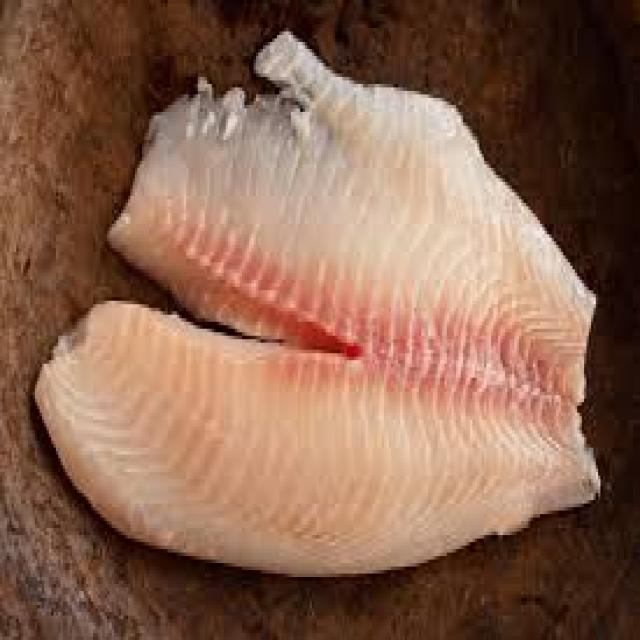Fish: (29, 54, 609, 587)
